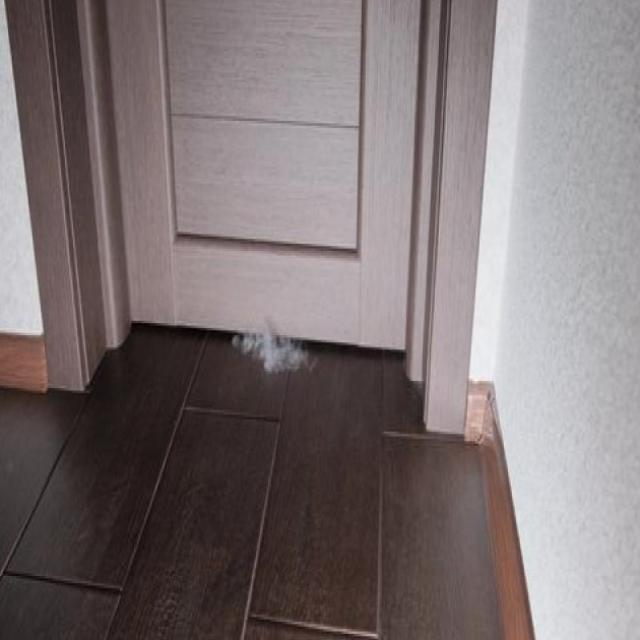fire: (227, 317, 316, 374)
